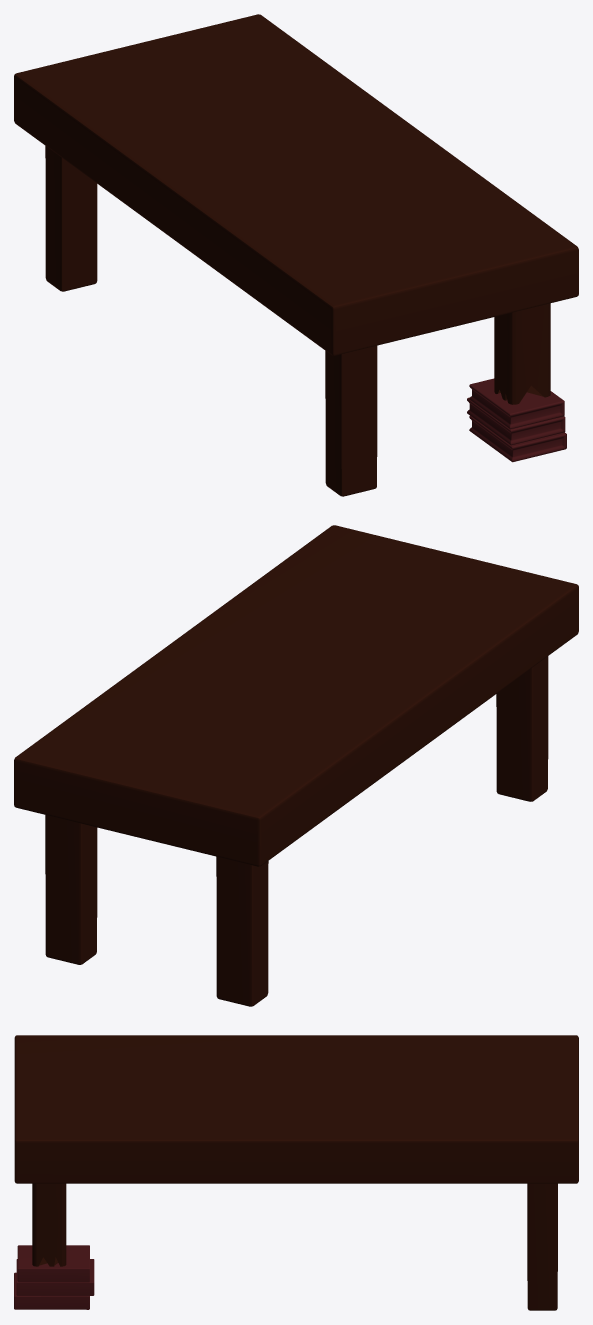
The model's file is brokentable.obj.
3 renders of one model, top to bottom at view 1: azimuth 30°, elevation 25°; view 2: azimuth 150°, elevation 25°; view 3: azimuth 270°, elevation 25°, orthographic. The views are drawn at different scales.
Visible parts, largest first — view 1: broken_Table; view 2: broken_Table; view 3: broken_Table.
Part boxes in pixels (x1,y1,x2,y2): broken_Table: [14, 14, 578, 496]; broken_Table: [14, 525, 578, 1006]; broken_Table: [14, 1035, 578, 1310].
Bounding box in the file's own units: 2.99 × 2.36 × 6.7.
